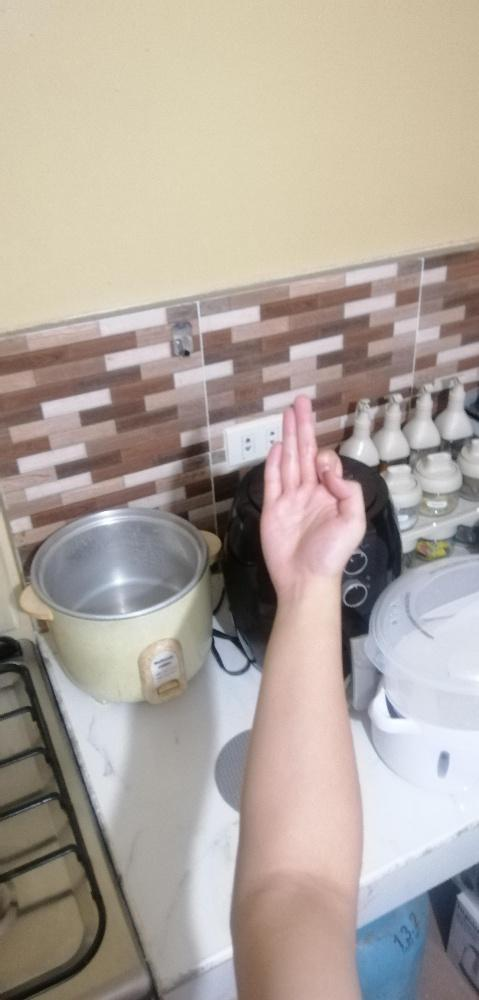f: (255, 394, 367, 582)
